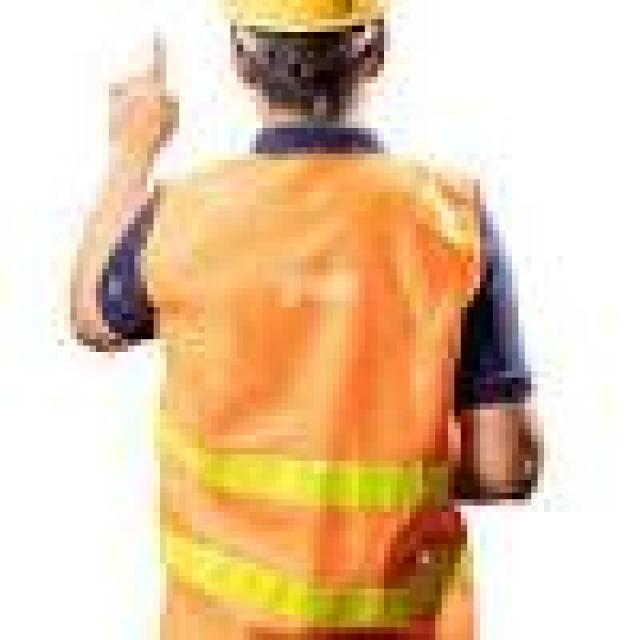reflective_jacket: (102, 121, 511, 614)
safety_helmet: (179, 0, 422, 51)
